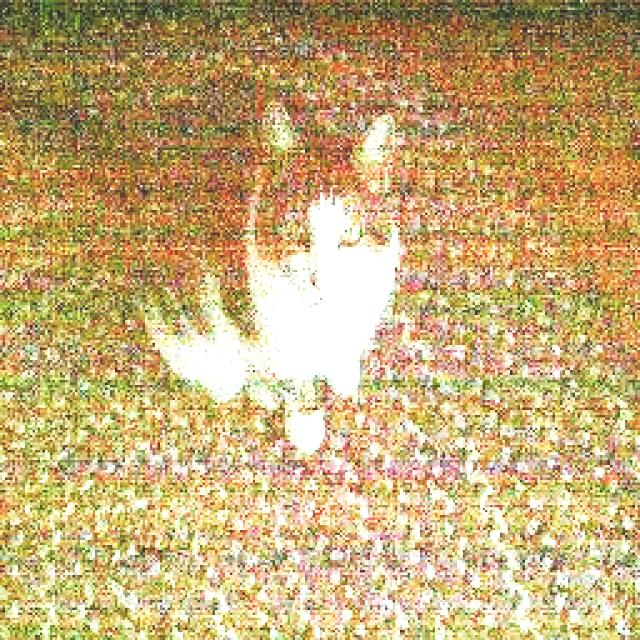cat: (119, 45, 435, 472)
